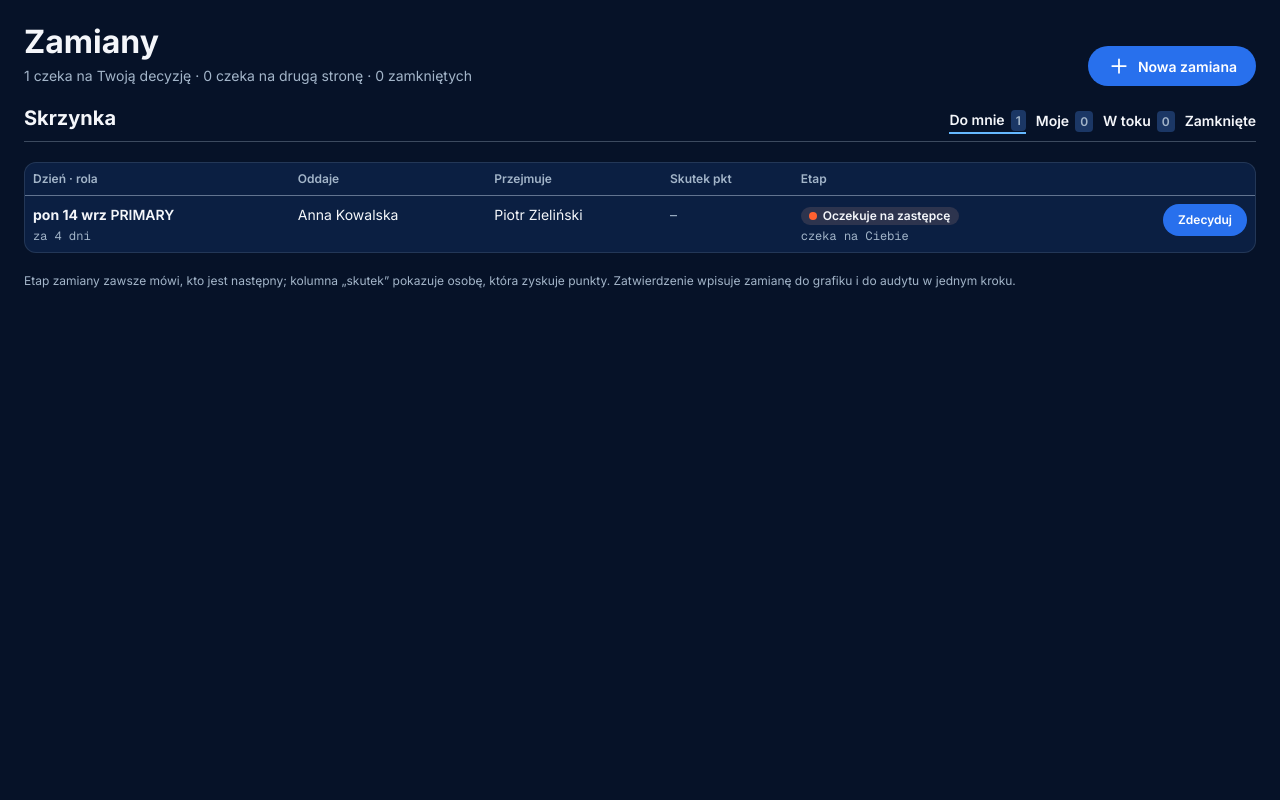
Test case: SwapPanel without the coordinator approval › leaves the coordinator out of the stages and writes the swap in on acceptance
Click the button "Zdecyduj" at [1205, 220], box [1163,204,1247,236]
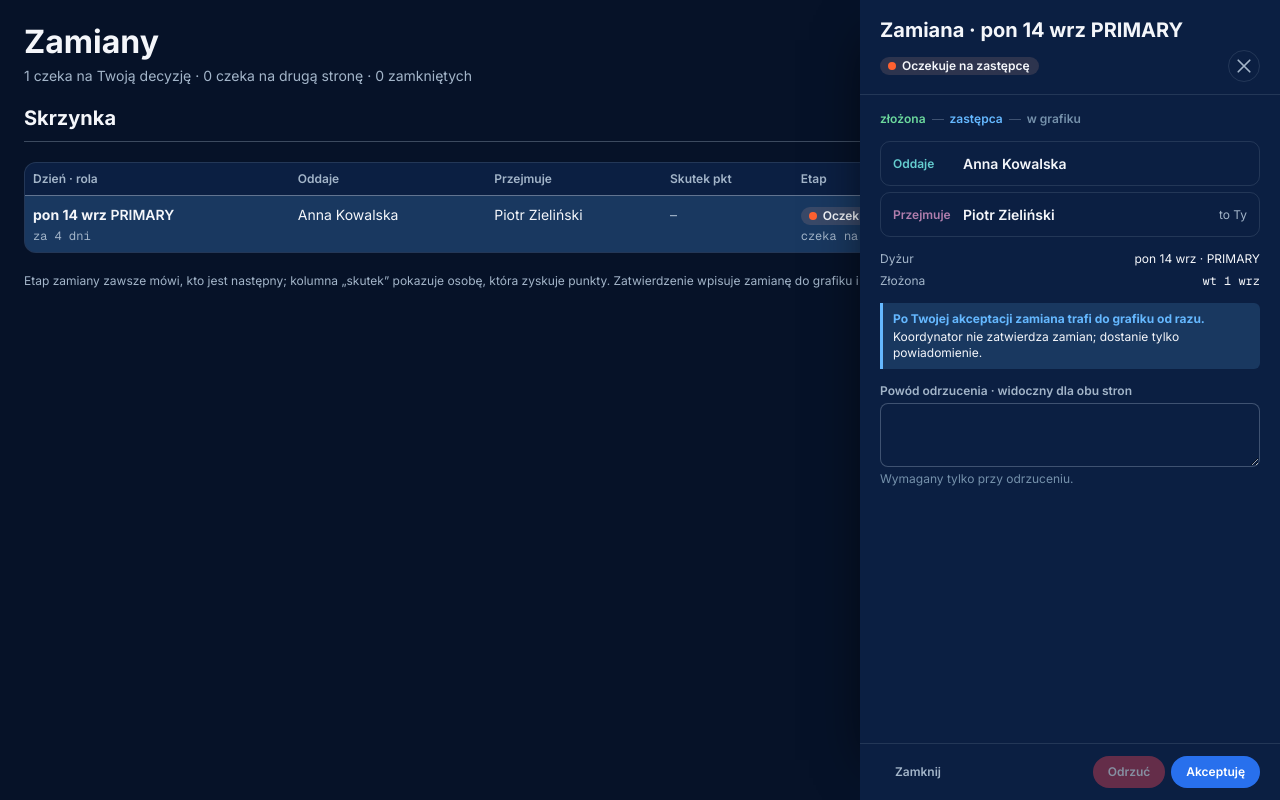
Check: the text "Po Twojej akceptacji zamiana trafi do grafiku od razu." is shown, box [893,311,1250,327]
Click the button "Akceptuję" at [1216, 772], box [1171,756,1260,788]
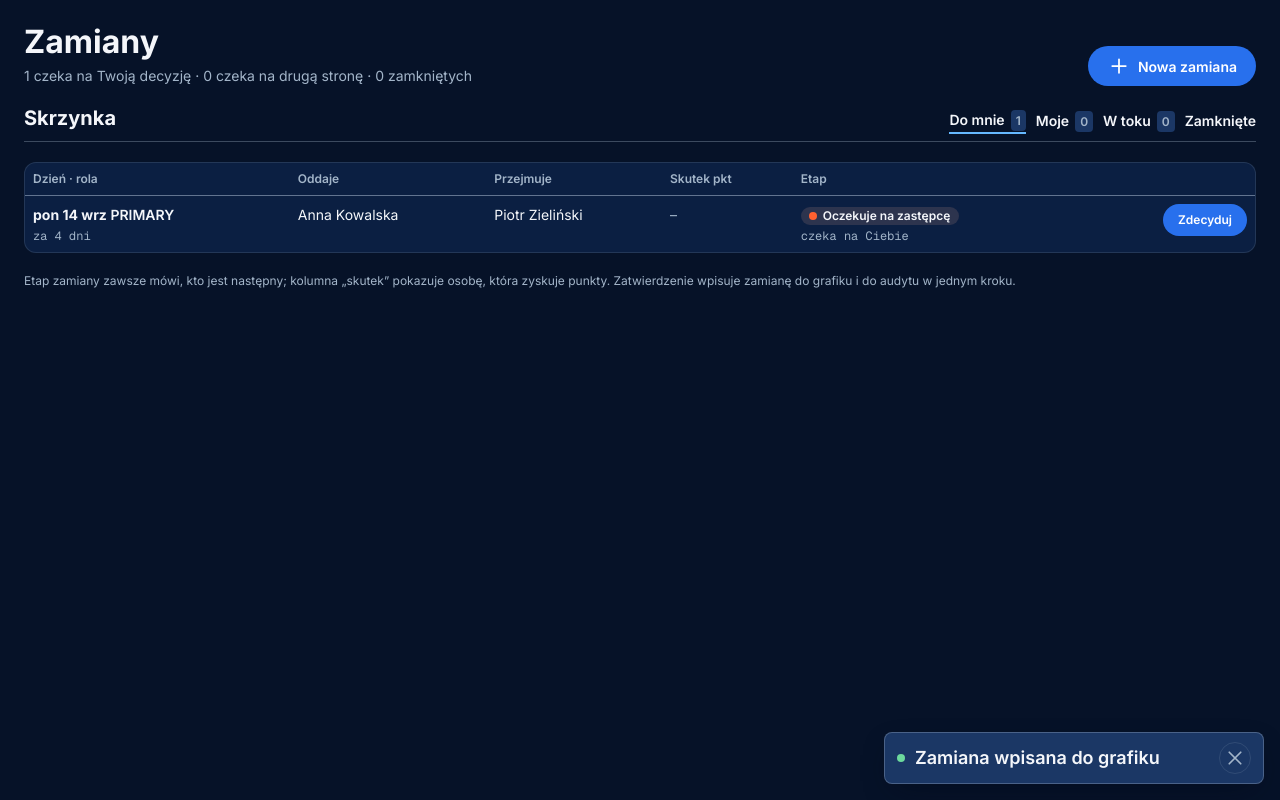
Check: the heading "Zamiana wpisana do grafiku" is shown, box [915,747,1160,768]
